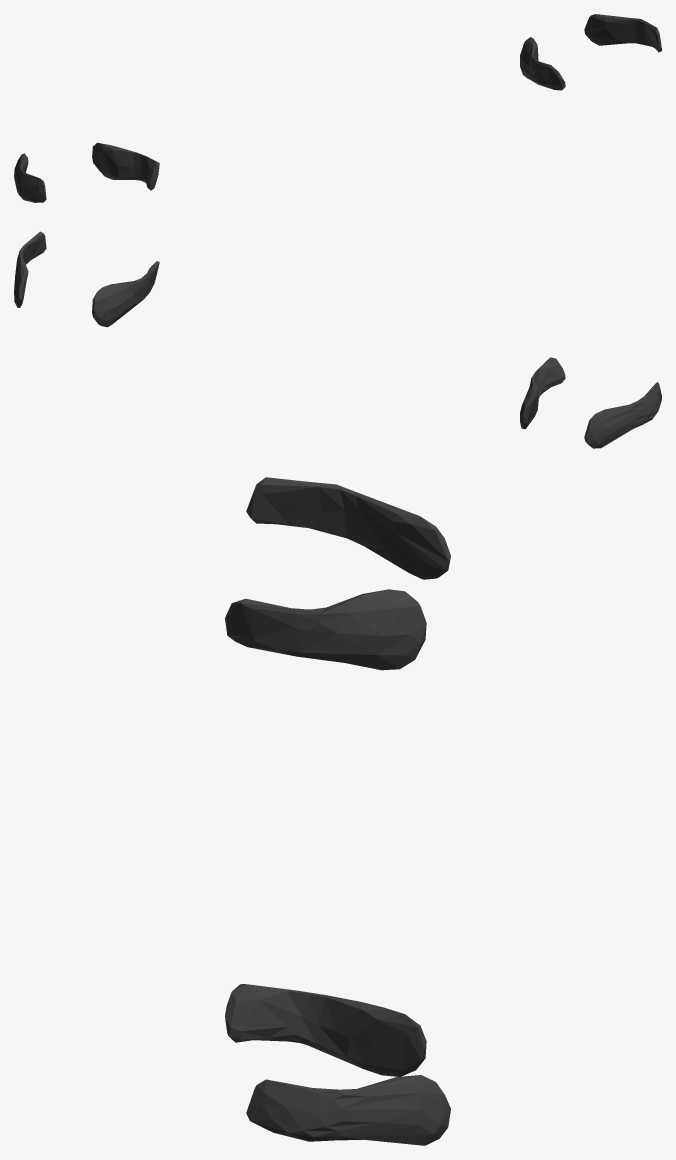
Rendered from Lig_collateral_sesamoid_fetlock_HL.glb.
The picture shows the model from 3 angles, top to bottom: view 1: azimuth 30°, elevation 25°; view 2: azimuth 150°, elevation 25°; view 3: azimuth 270°, elevation 25°; orthographic projection. The views are drawn at different scales.
Visible parts, largest first — view 1: Lig_collateral_sesamoid_fetlock_HL; view 2: Lig_collateral_sesamoid_fetlock_HL; view 3: Lig_collateral_sesamoid_fetlock_HL.
Part boxes in pixels (x1=…): Lig_collateral_sesamoid_fetlock_HL: x1=14, y1=14, x2=661, y2=202; Lig_collateral_sesamoid_fetlock_HL: x1=14, y1=231, x2=661, y2=448; Lig_collateral_sesamoid_fetlock_HL: x1=225, y1=477, x2=450, y2=1145.
Bounding box in the file's own units: 0.00565 × 0.000403 × 0.000875.
1 material, 1 textured.
